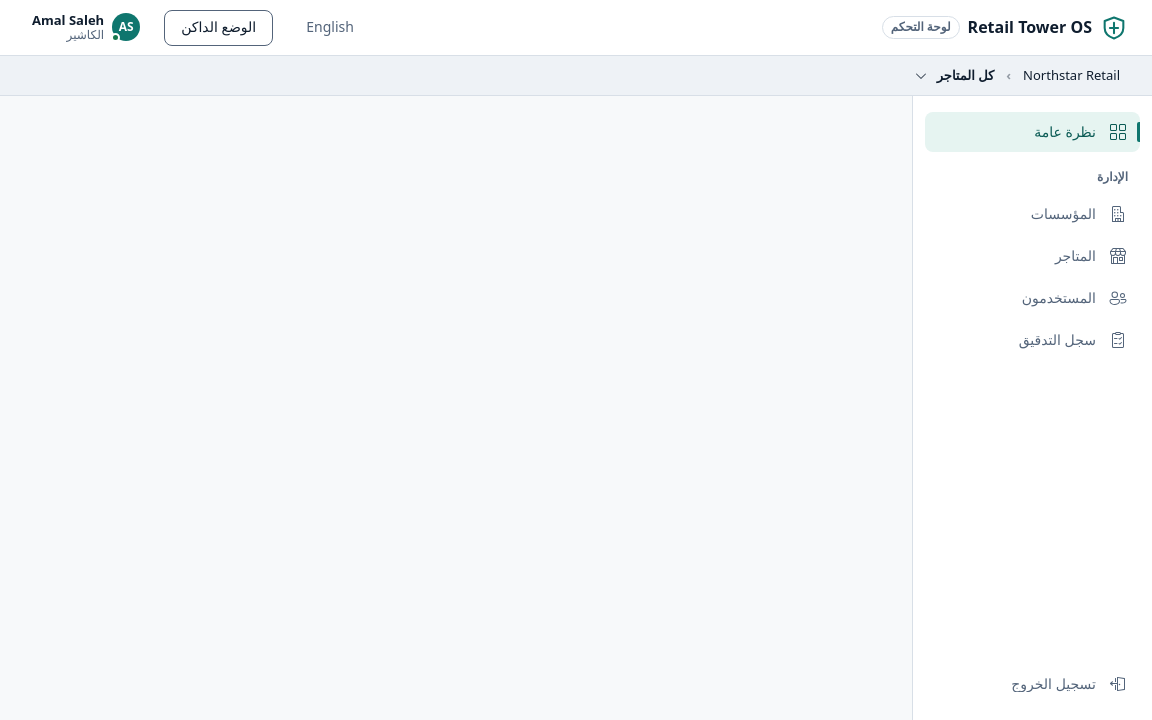
Test case: shell locale › the switch flips the frame to English LTR and remembers it for this user
Click the button with aria-label "Switch to English" at coordinates (330, 28), box [289, 10, 371, 46]
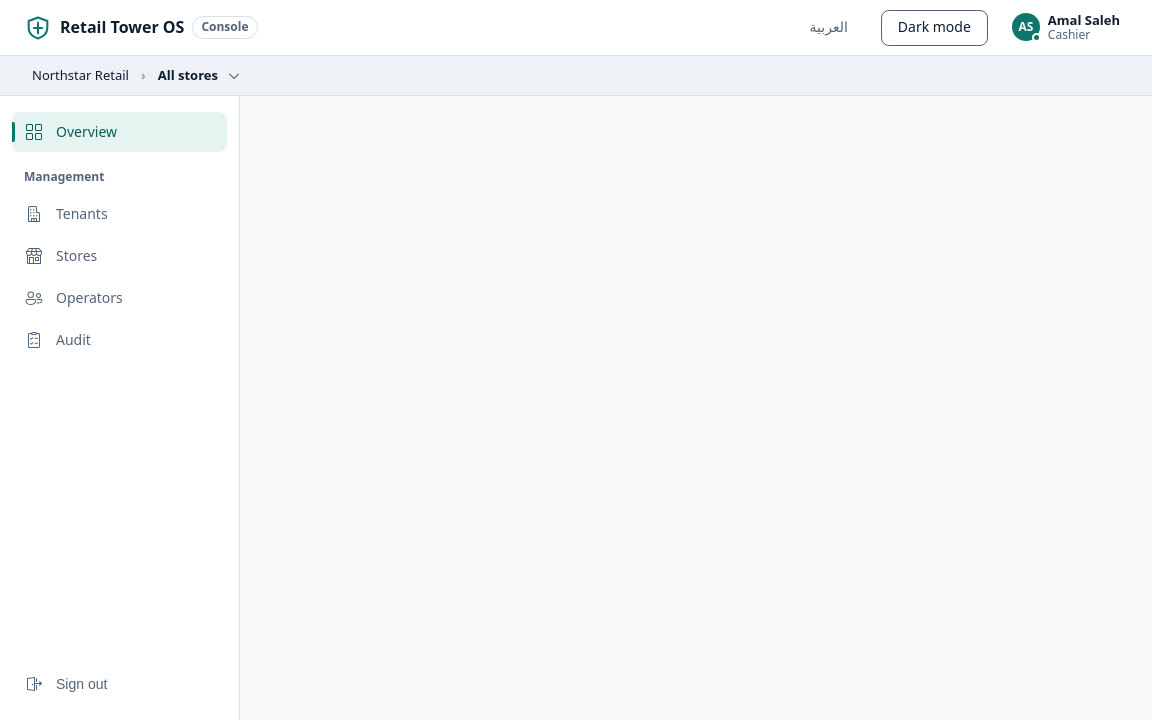
Expected: the text "Cashier" is shown, [1048, 26, 1090, 43]
Expected: the button "Dark mode" is shown, [881, 10, 988, 46]
